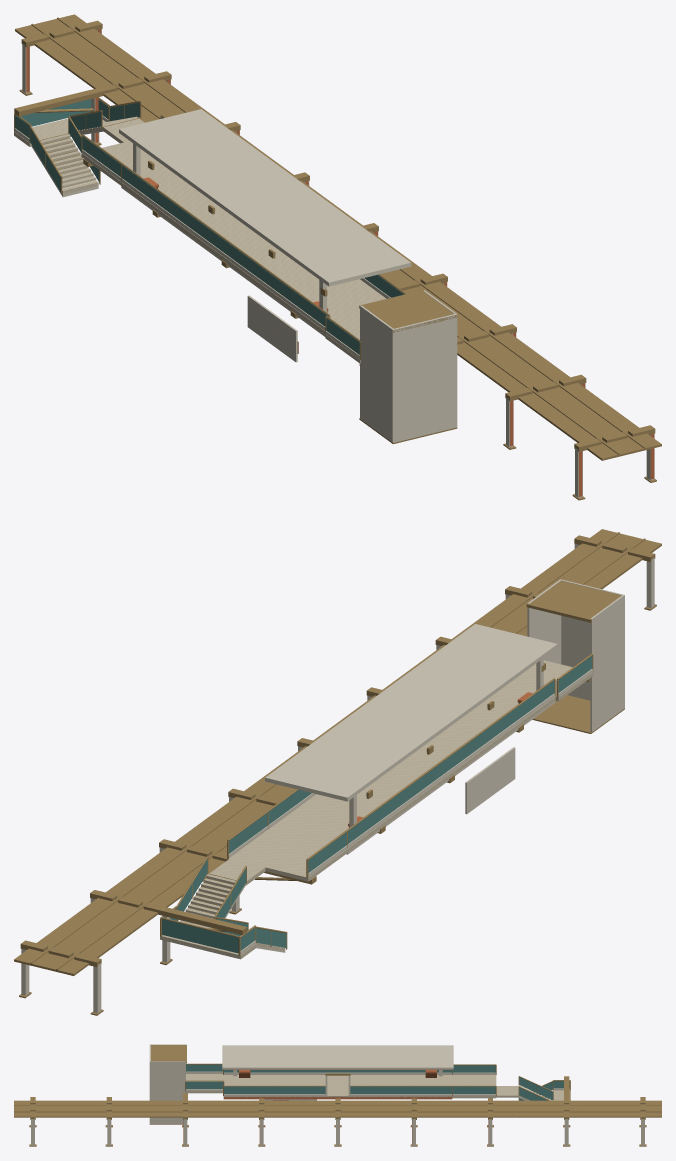
The model's file is AST-TRM-G4-001_fore_midship_source.glb.
3 views of the same model, one above another, from view 1: azimuth 30°, elevation 25°; view 2: azimuth 150°, elevation 25°; view 3: azimuth 270°, elevation 25° (orthographic). The views are drawn at different scales.
Visible parts, largest first — view 1: Canopy_Profiled_Crown, BoardingLift_Rear, Boarding_Island_24m, BoardingLift_HousingSide_-7.7, Port_Edge_infill, BoardingLift_Header, Guideway_RibbedDeck_01, Guideway_RibbedDeck_13, Guideway_RibbedDeck_15, Guideway_RibbedDeck_16, Guest_Waiting_Screen, Guideway_RibbedDeck_00 (+10 smaller); view 2: Canopy_Profiled_Crown, Boarding_Island_24m, BoardingLift_HousingSide_-7.7, Emergency_TopApproach, Port_Edge_infill, BoardingLift_Header, Guideway_RibbedDeck_01, BoardingLift_Rear, Guideway_RibbedDeck_03, Guideway_RibbedDeck_00, Guideway_RibbedDeck_15, Guest_Waiting_Screen (+13 smaller); view 3: Canopy_Profiled_Crown, Boarding_Island_24m, BoardingLift_HousingSide_-3.5, Tram_NorthGuard_infill, Tram_SouthGuard_infill, Guideway_RibbedDeck_01, Guideway_RibbedDeck_03, Guideway_RibbedDeck_05, Guideway_RibbedDeck_07, Guideway_RibbedDeck_09, Guideway_RibbedDeck_11, Guideway_RibbedDeck_13 (+28 smaller).
Part boxes in pixels (box(x1,y1,x2,y2)): Canopy_Profiled_Crown: box(119, 109, 411, 286); BoardingLift_Rear: box(392, 313, 457, 442); Boarding_Island_24m: box(121, 170, 386, 334); BoardingLift_HousingSide_-7.7: box(360, 305, 393, 441); Port_Edge_infill: box(122, 165, 328, 326); BoardingLift_Header: box(359, 290, 457, 332); Guideway_RibbedDeck_01: box(49, 40, 143, 81); Guideway_RibbedDeck_13: box(464, 343, 557, 384); Guideway_RibbedDeck_15: box(533, 393, 626, 435); Guideway_RibbedDeck_16: box(567, 419, 661, 460); Guest_Waiting_Screen: box(247, 295, 297, 362); Guideway_RibbedDeck_00: box(15, 14, 108, 55); Canopy_Profiled_Crown: box(265, 624, 557, 801); Boarding_Island_24m: box(269, 685, 555, 852); BoardingLift_HousingSide_-7.7: box(590, 595, 624, 732); Emergency_TopApproach: box(227, 829, 347, 881); Port_Edge_infill: box(348, 680, 554, 843); BoardingLift_Header: box(526, 580, 621, 622); Guideway_RibbedDeck_01: box(49, 909, 142, 950); BoardingLift_Rear: box(560, 579, 624, 708); Guideway_RibbedDeck_03: box(118, 858, 210, 899); Guideway_RibbedDeck_00: box(14, 934, 108, 975); Guideway_RibbedDeck_15: box(533, 554, 627, 589); Guest_Waiting_Screen: box(465, 747, 515, 814); Canopy_Profiled_Crown: box(222, 1045, 453, 1069); Boarding_Island_24m: box(223, 1075, 452, 1098); BoardingLift_HousingSide_-3.5: box(150, 1061, 185, 1123); Tram_NorthGuard_infill: box(350, 1086, 451, 1093); Tram_SouthGuard_infill: box(224, 1086, 325, 1093); Guideway_RibbedDeck_01: box(585, 1100, 623, 1117); Guideway_RibbedDeck_03: box(509, 1100, 547, 1117); Guideway_RibbedDeck_05: box(433, 1100, 471, 1117); Guideway_RibbedDeck_07: box(357, 1100, 395, 1117); Guideway_RibbedDeck_09: box(280, 1100, 318, 1117); Guideway_RibbedDeck_11: box(204, 1100, 242, 1117); Guideway_RibbedDeck_13: box(128, 1100, 166, 1117).
Bounding box in the file's own units: 10.41 × 7.3 × 68.
6 materials, 4 textured.
